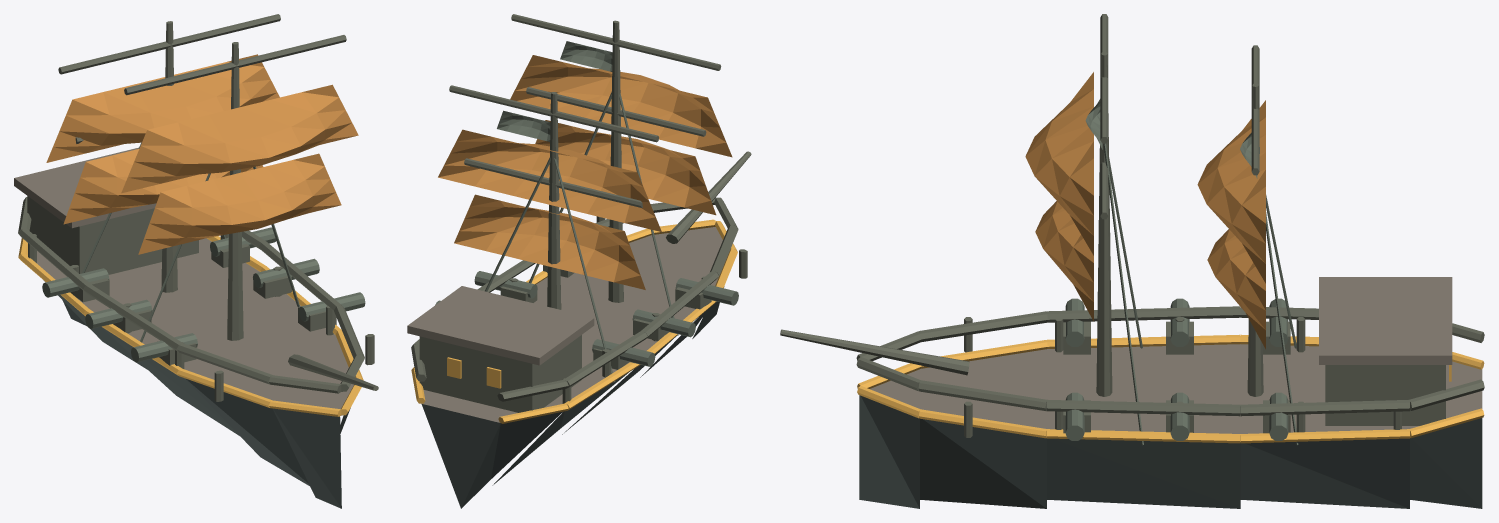
File: event_halloween_ship_design_01.glb
3 renders of one model, left to right at view 1: azimuth 30°, elevation 25°; view 2: azimuth 150°, elevation 25°; view 3: azimuth 270°, elevation 25°, orthographic. The views are drawn at different scales.
Visible parts, largest first — view 1: event_halloween_ship_design_01_Complete; view 2: event_halloween_ship_design_01_Complete; view 3: event_halloween_ship_design_01_Complete.
Boxes of the visible parts, box(x1,y1,x2,y2) form: event_halloween_ship_design_01_Complete: box(14, 14, 378, 508); event_halloween_ship_design_01_Complete: box(407, 14, 751, 508); event_halloween_ship_design_01_Complete: box(780, 14, 1484, 508).
Size of the model in its own units: 3.7 by 5.89 by 8.25.
